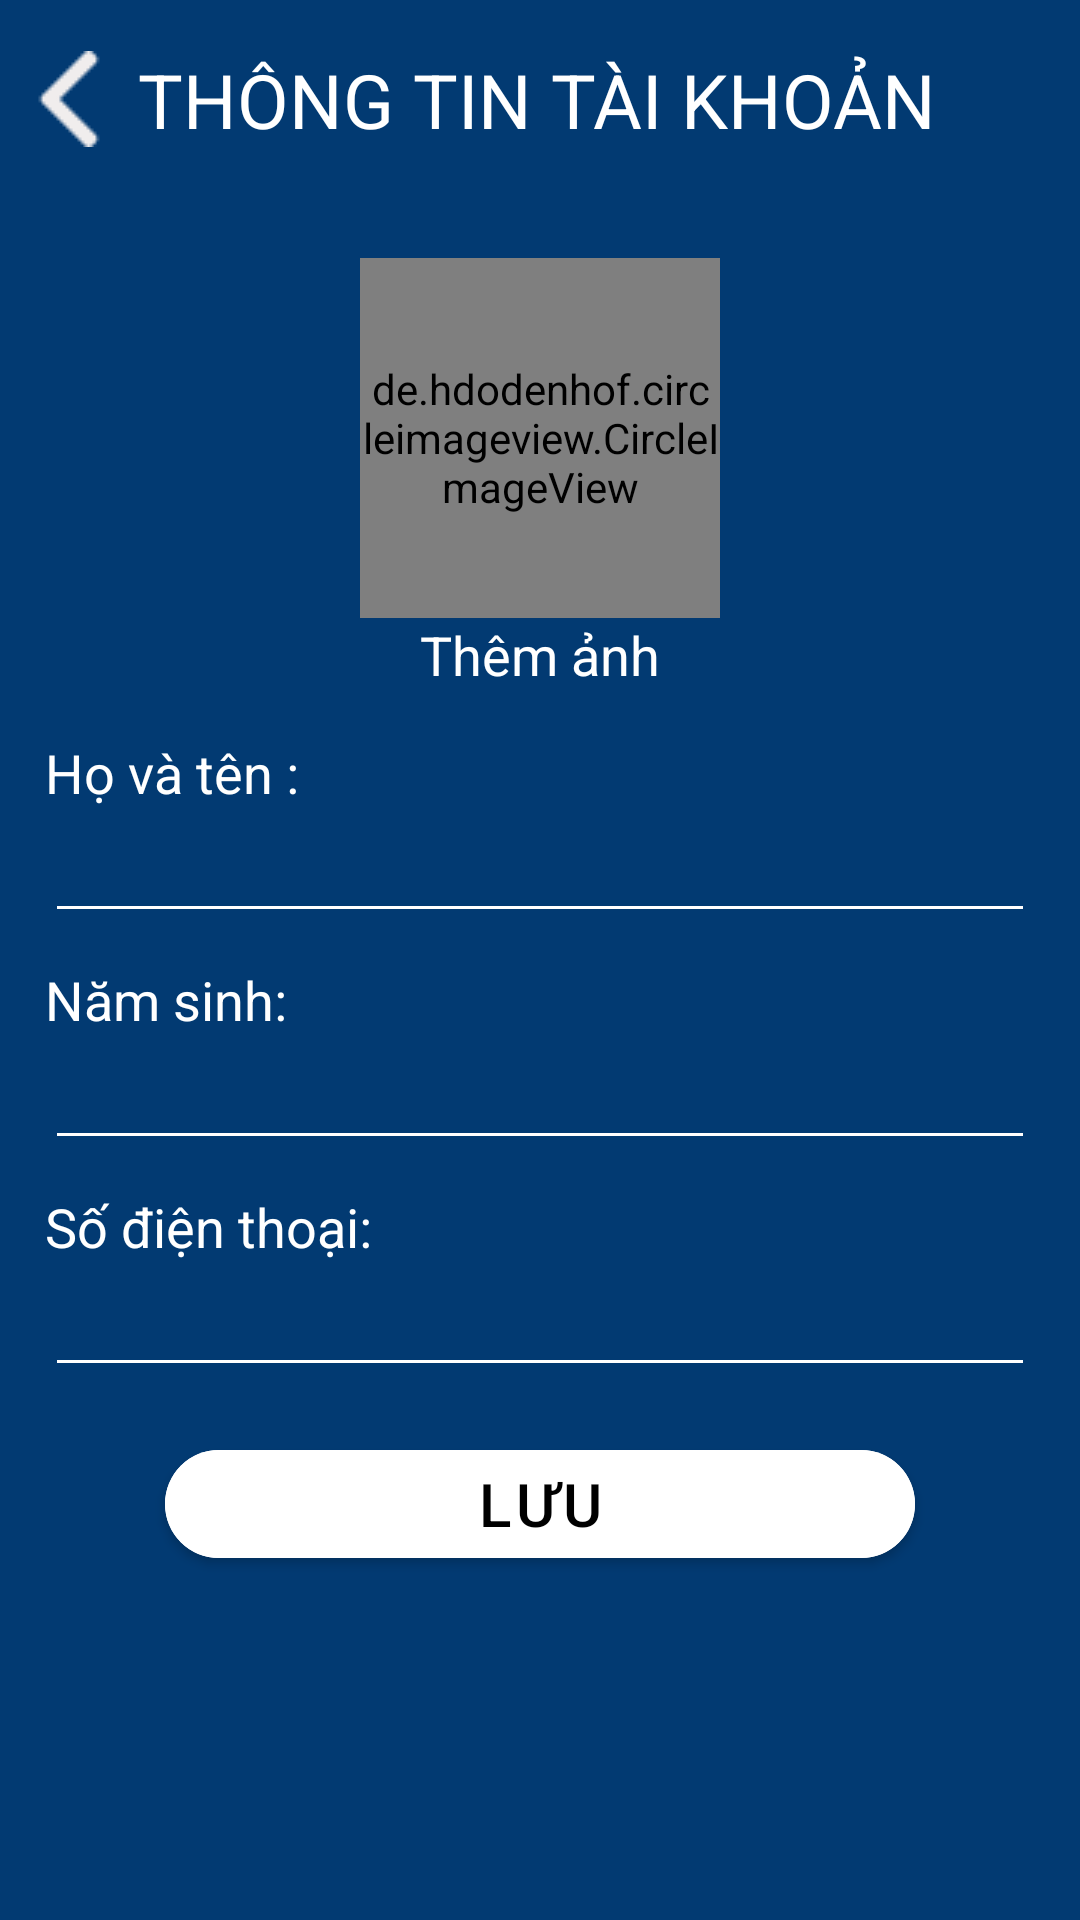

Named icons in this screenshot (1080px x 1920px) and their bounding boxes, [x1=x1, y1=y1, x2=x2, y2=y2]:
back: [x1=39, y1=51, x2=100, y2=147]
